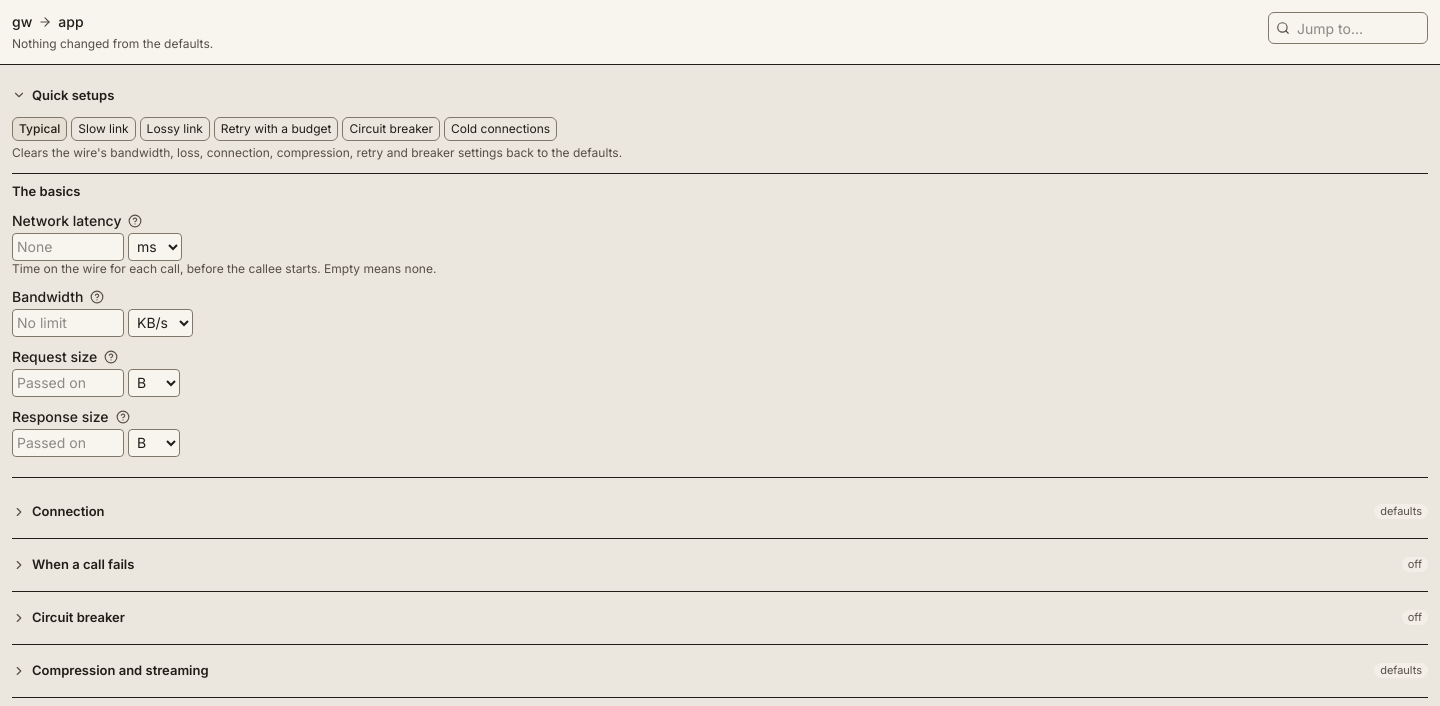
opening_a_group_shows_its_boxes
This screenshot has width=1440, height=706.
Click the button "Connection defaults" at (68, 511), box [12,494,1428,530]
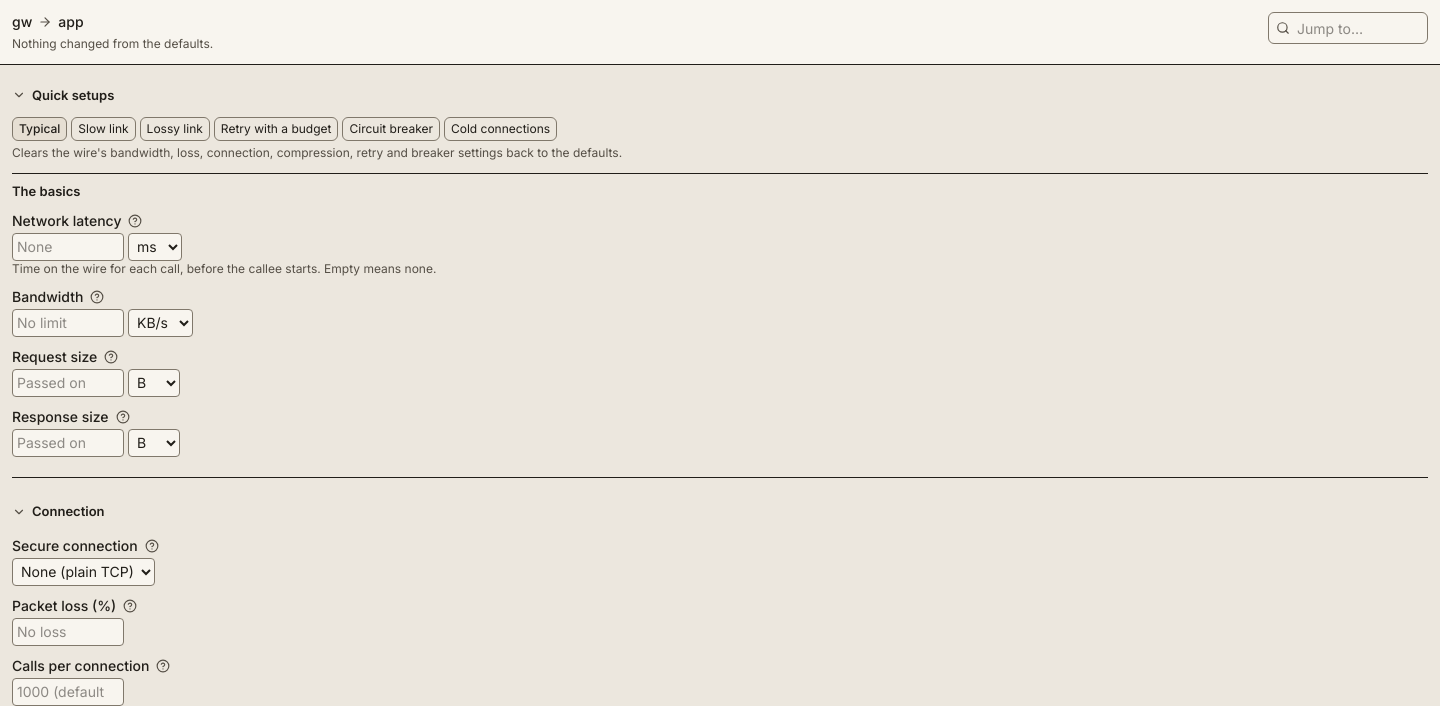
Expected: the number field labelled "Packet loss (%)" is shown, [12,618,124,646]
Expected: the dropdown labelled "Secure connection" is shown, [12,558,155,586]
